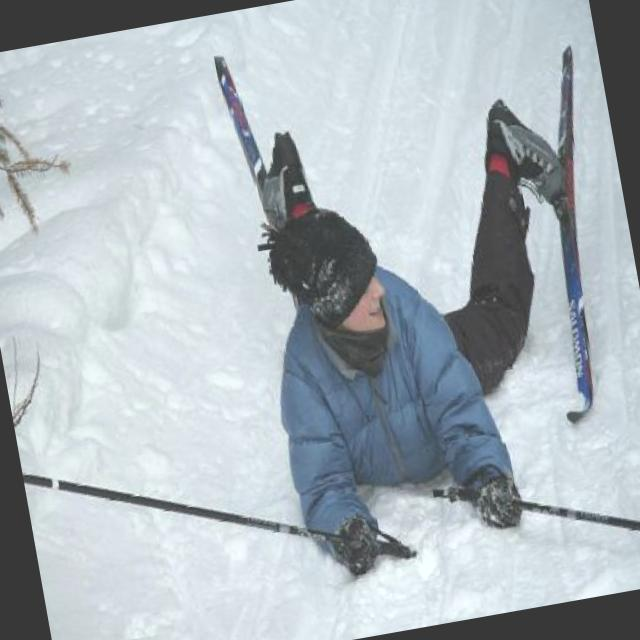Person: (230, 83, 628, 589)
